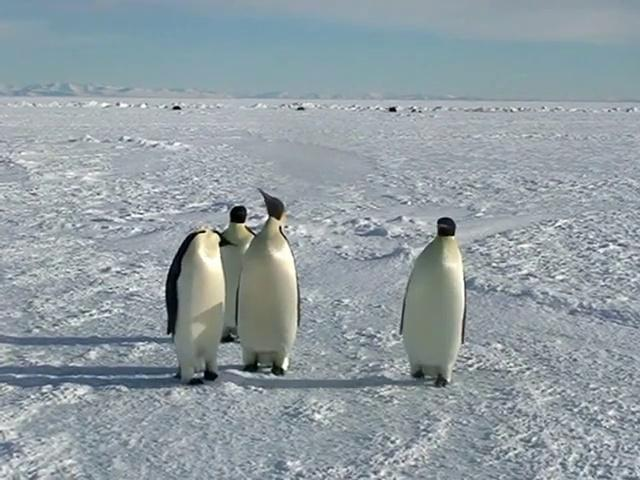animal: (401, 219, 466, 387)
